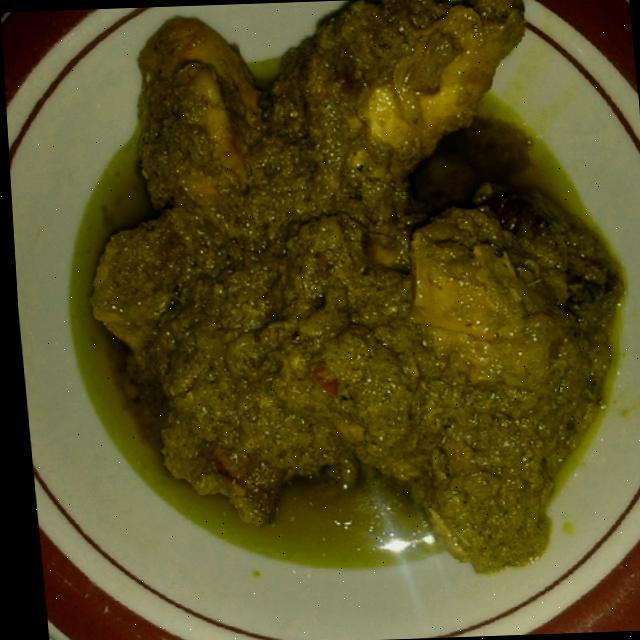熟制海鲜: (11, 0, 640, 625)
